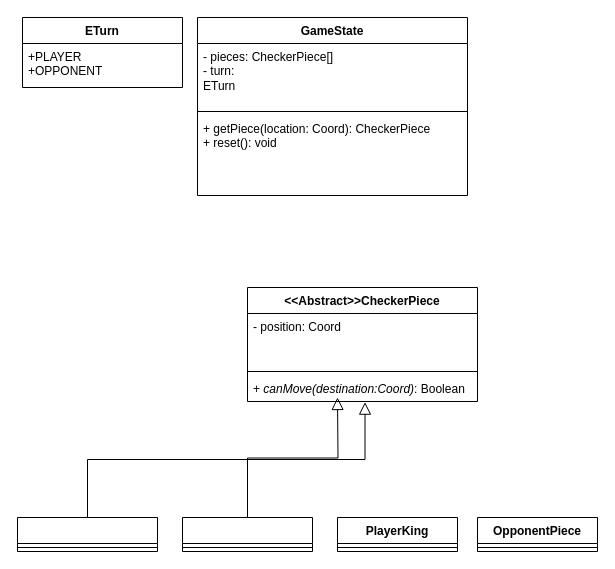
This 615x569 diagram has some shape labels left out. Here are the shapes that lost their labels. From the top down, the centre of each, then its label:
the point at 87,534: PlayerPiece
the point at 247,534: OpponentKing
